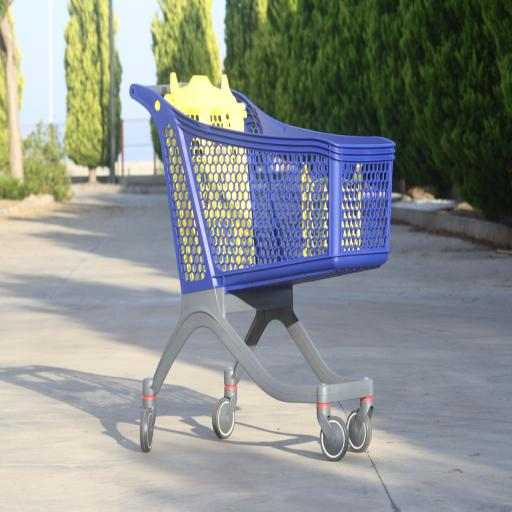shopping_cart: (129, 83, 396, 460)
